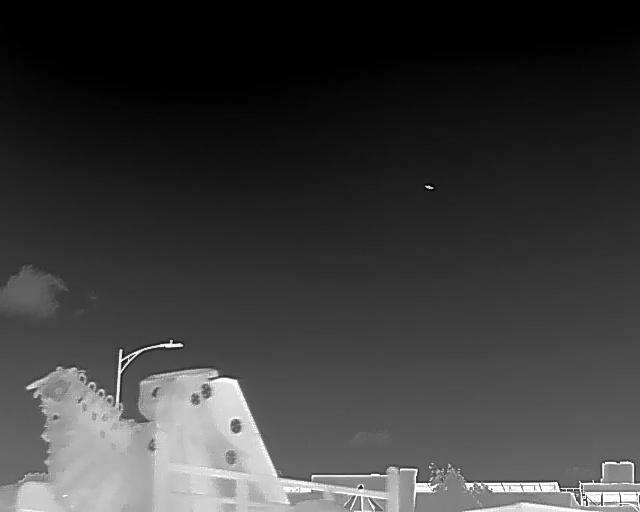fpv-drone: (424, 183, 434, 190)
